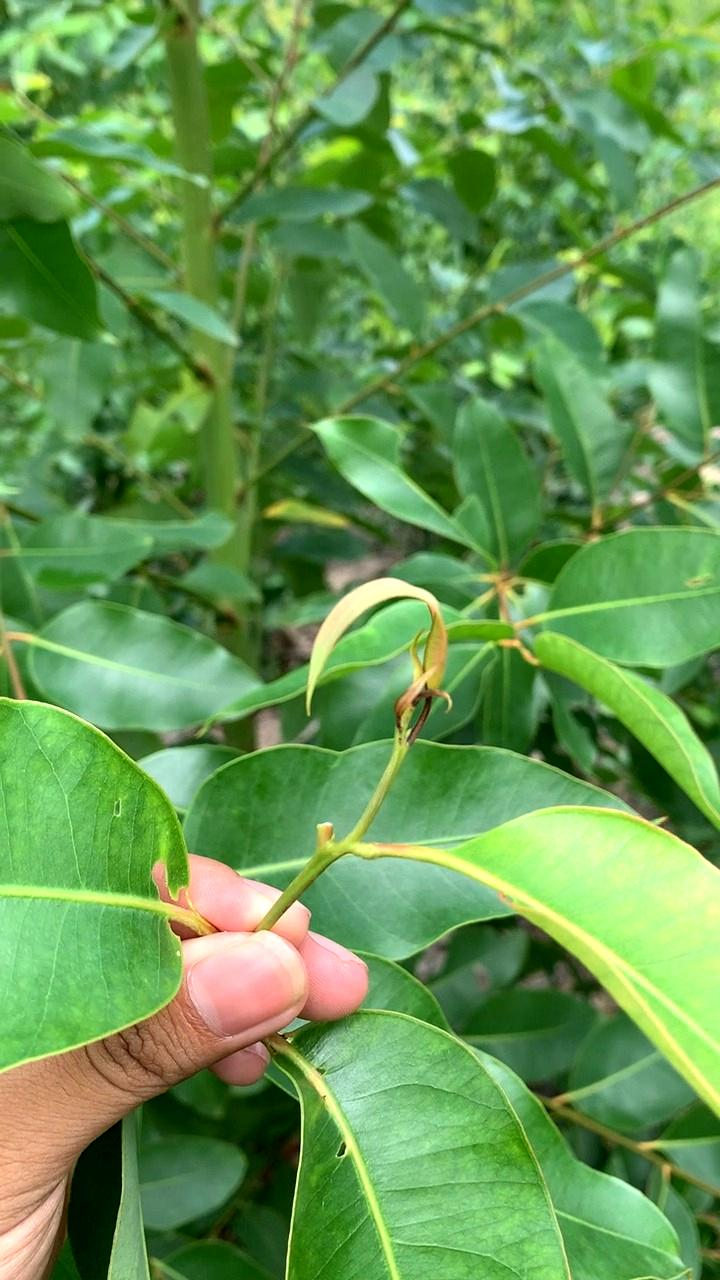Helopeltis-Withered Sprout: (306, 563, 451, 743)
